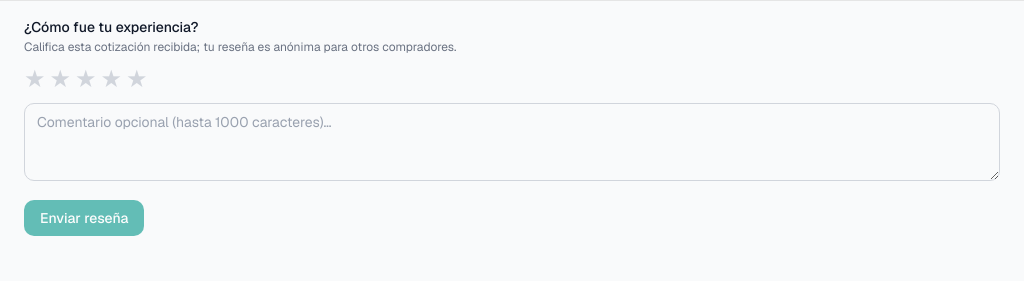
FormularioFeedback › traduce FEEDBACK_NO_ELEGIBLE al español
The width and height of the screenshot is (1024, 281).
Click the radio button named "4 estrellas" at (111, 79), box [100,67,122,91]
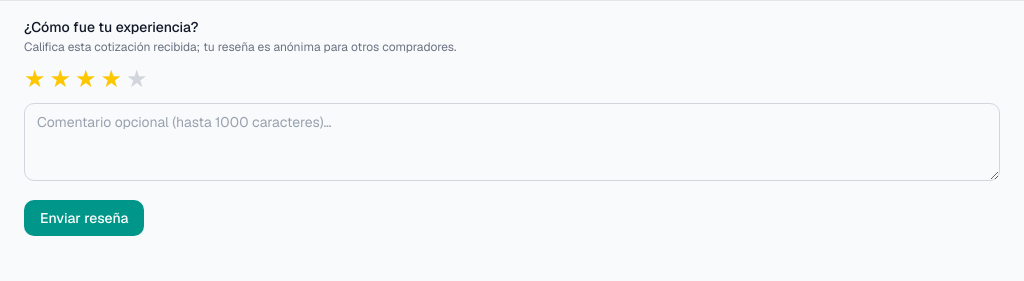
Click the button "Enviar reseña" at (84, 218), box [24,200,144,236]
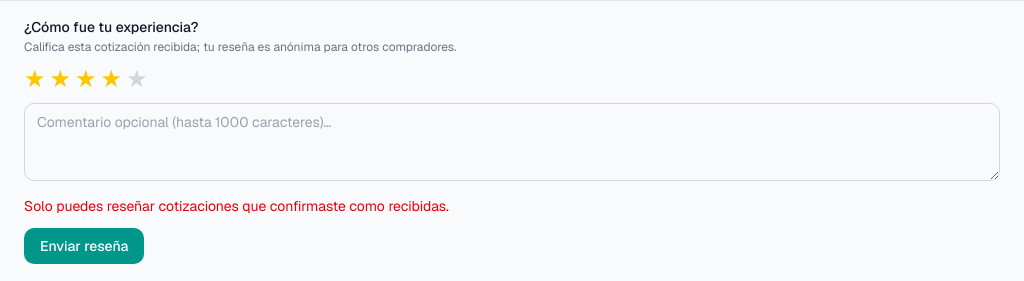
Expected: the button "Enviar reseña" is enabled, [24,228,144,264]
Expected: the message reads "Solo puedes reseñar cotizaciones que confirmaste como recibidas.", [24,197,449,215]
